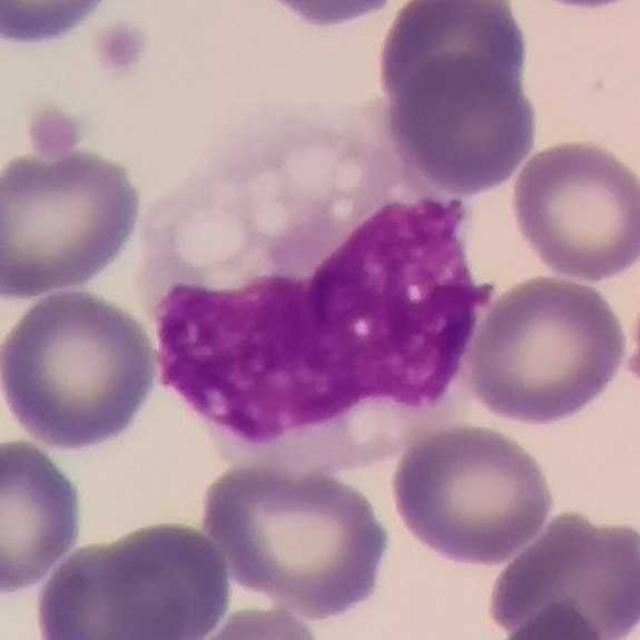Monocyte: (125, 110, 491, 479)
Platelets: (26, 99, 90, 170), (91, 16, 152, 80)
RBC: (196, 456, 396, 621), (0, 284, 163, 454), (461, 270, 632, 428), (385, 418, 559, 569), (0, 143, 148, 300), (380, 54, 543, 194), (482, 506, 640, 640), (505, 135, 640, 284), (372, 0, 534, 116), (85, 516, 236, 640), (30, 532, 184, 640), (0, 434, 88, 600), (0, 0, 127, 53), (163, 602, 330, 640), (483, 600, 613, 640), (250, 0, 414, 31), (521, 0, 640, 17)
